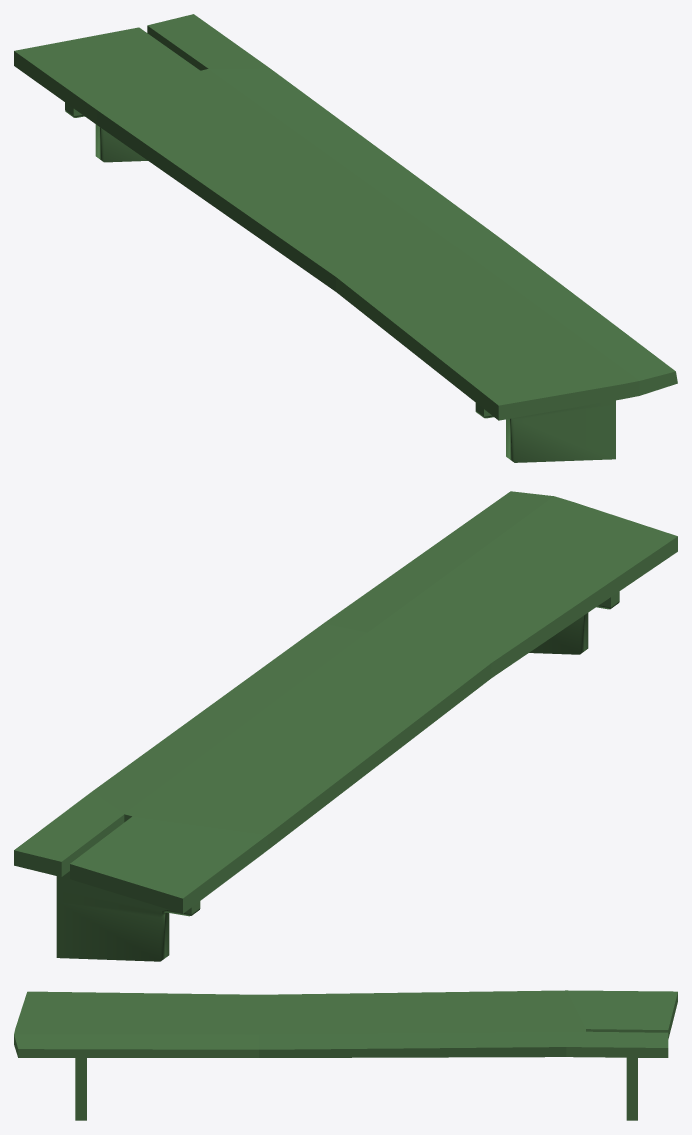
Rendered from Shelf_Grp_02_Lod0.fbx.
3 views of the same model, one above another, from view 1: azimuth 30°, elevation 25°; view 2: azimuth 150°, elevation 25°; view 3: azimuth 270°, elevation 25° (orthographic). The views are drawn at different scales.
Parts seen in each view (by area): view 1: Shelf_Grp_02_Lod0; view 2: Shelf_Grp_02_Lod0; view 3: Shelf_Grp_02_Lod0.
Part boxes in pixels (x1,y1,x2,y2): Shelf_Grp_02_Lod0: (14, 14, 677, 462); Shelf_Grp_02_Lod0: (14, 491, 677, 961); Shelf_Grp_02_Lod0: (14, 990, 677, 1120).
Bounding box in the file's own units: 44.24 × 28.8 × 217.
